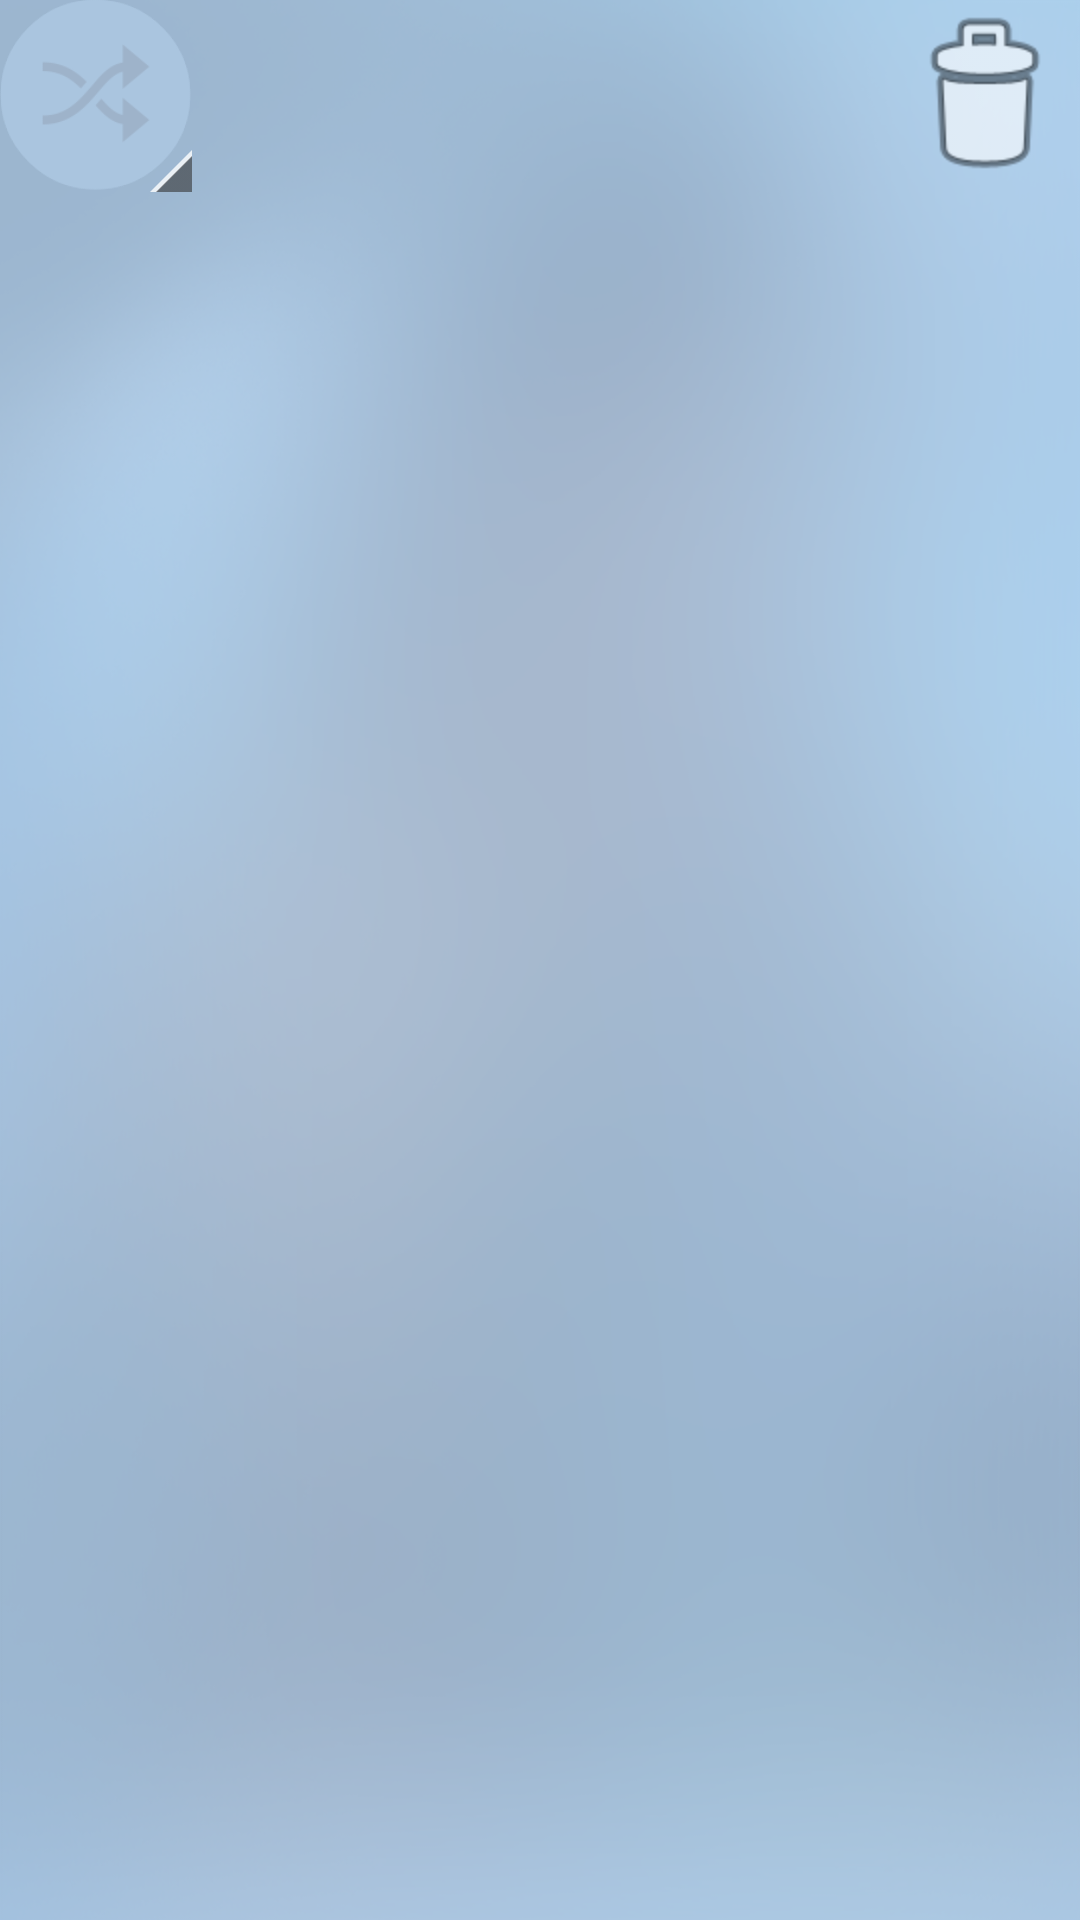

Where icons sit on this 1080w x 1920h app screen, as BBox(x1, y1, x2, y2):
delete: BBox(930, 18, 1039, 168)
